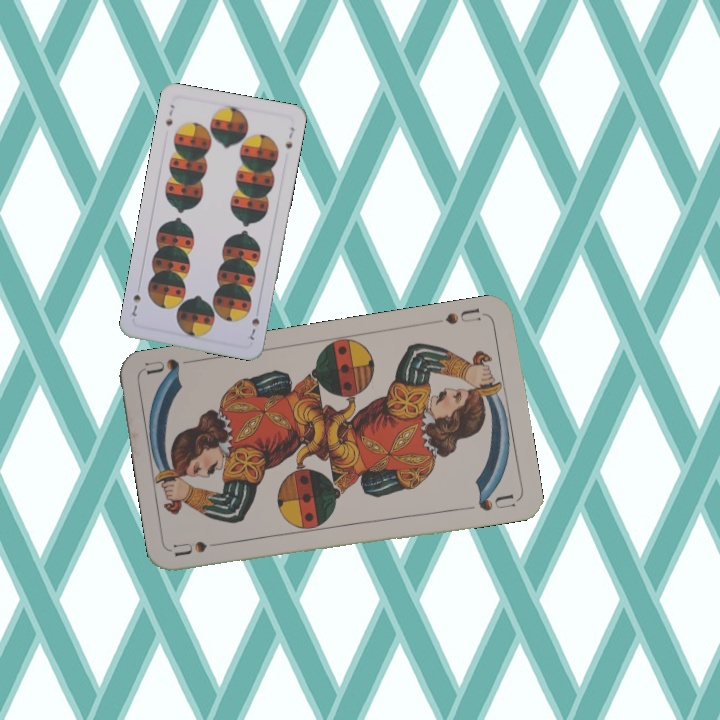S7: (243, 314, 262, 345), (162, 100, 178, 128)
SU: (171, 537, 230, 559), (441, 303, 483, 327)
